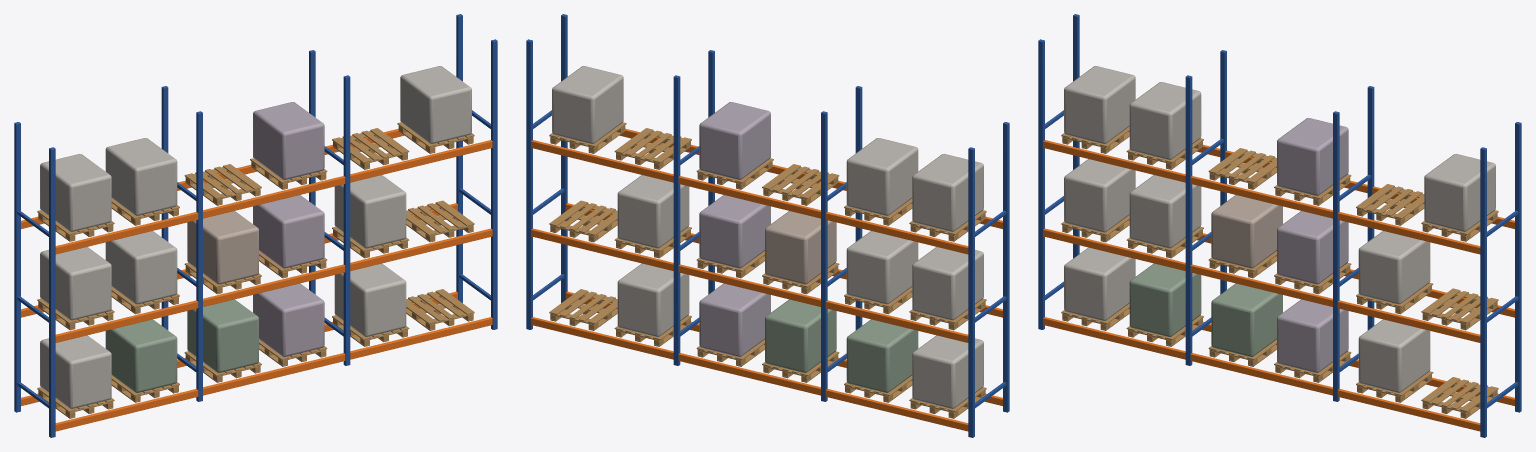
File: pallet_rack.fbx
The picture shows the model from 3 angles, left to right: view 1: azimuth 30°, elevation 25°; view 2: azimuth 150°, elevation 25°; view 3: azimuth 330°, elevation 25°; orthographic projection.
Parts seen in each view (by area): view 1: pallet_rack; view 2: pallet_rack; view 3: pallet_rack.
Part boxes in pixels (x1,y1,x2,y2): pallet_rack: (14,14,497,437); pallet_rack: (526,14,1009,437); pallet_rack: (1038,14,1521,437).
Bounding box in the file's own units: 8.19 × 5.05 × 1.17.
